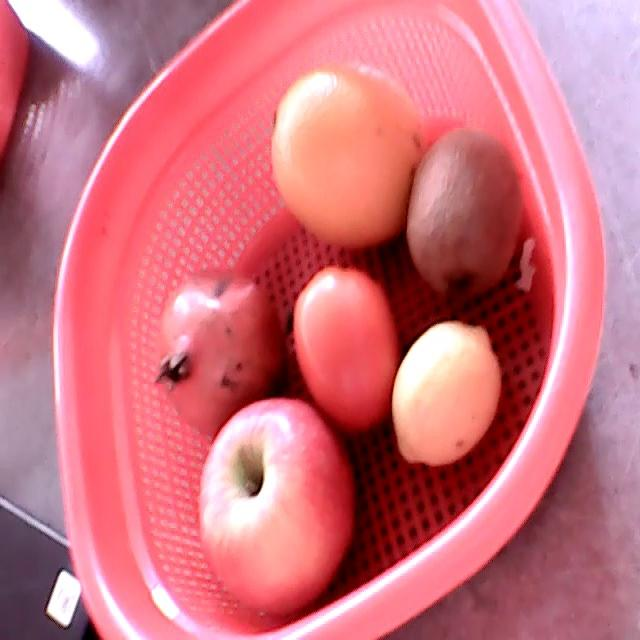apple: (198, 397, 356, 618)
kiwi: (407, 127, 523, 299)
lemon: (391, 321, 500, 466)
orange: (271, 66, 421, 244)
pomegranate: (153, 272, 280, 436)
tomato: (293, 266, 398, 430)
